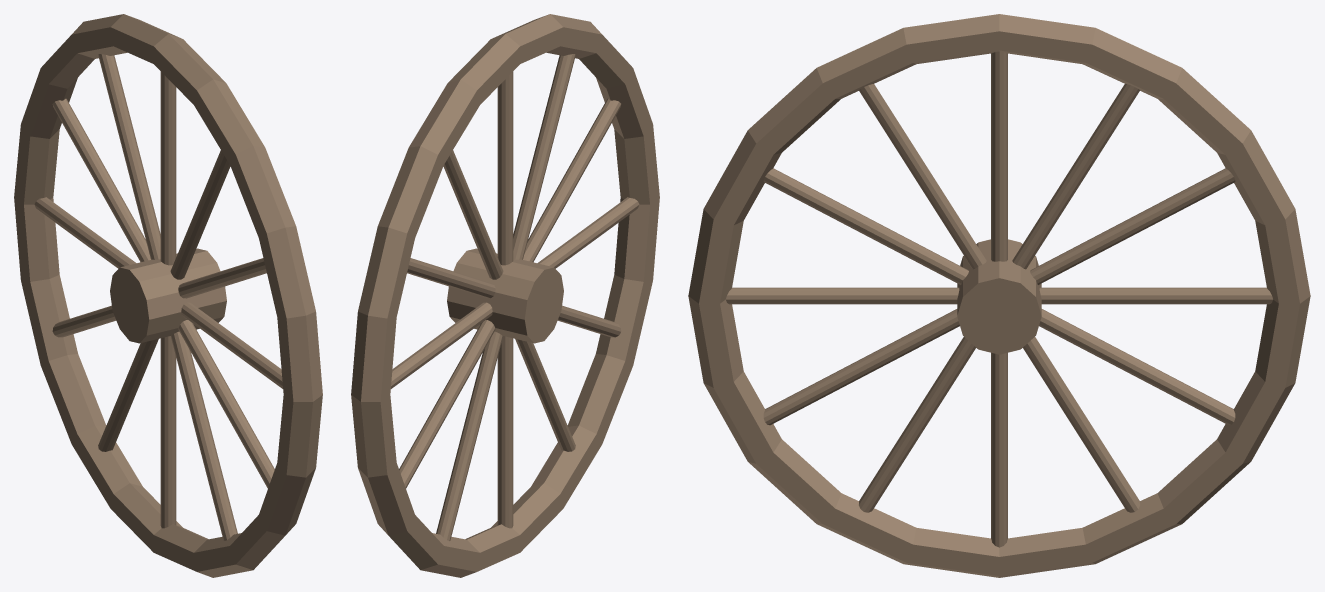
The model's file is VH-WHEEL.glb.
3 renders of one model, left to right at view 1: azimuth 30°, elevation 25°; view 2: azimuth 150°, elevation 25°; view 3: azimuth 270°, elevation 25°, orthographic. The views are drawn at different scales.
Visible parts, largest first — view 1: rim, spoke (×12), hub; view 2: rim, spoke (×12), hub; view 3: rim, spoke (×12), hub.
Part boxes in pixels (left/top/right/bottom): rim: left=14, top=14, right=322, bottom=577; spoke (×12): left=34, top=54, right=282, bottom=540; hub: left=110, top=248, right=226, bottom=343; rim: left=351, top=14, right=659, bottom=577; spoke (×12): left=391, top=54, right=639, bottom=540; hub: left=447, top=248, right=563, bottom=343; rim: left=688, top=14, right=1310, bottom=577; spoke (×12): left=726, top=51, right=1272, bottom=547; hub: left=957, top=239, right=1041, bottom=354.
Bounding box in the file's own units: 0.16 × 1.03 × 1.03.
